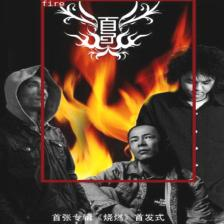fire: (41, 0, 195, 182)
